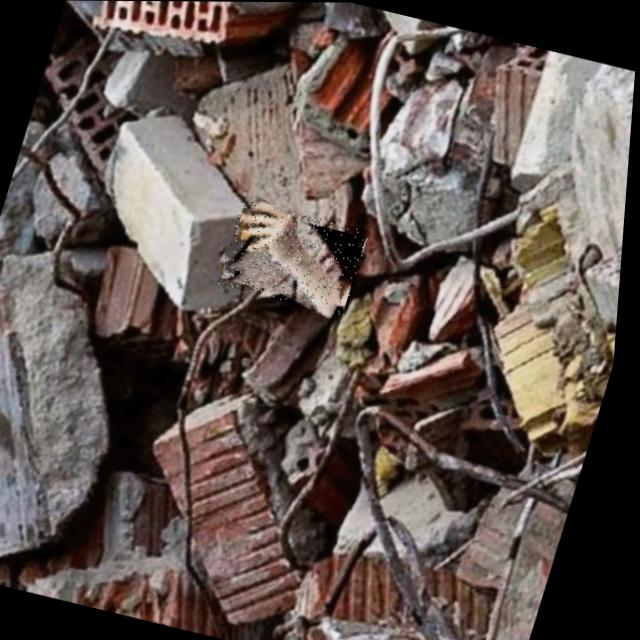Person in Rubble: (219, 198, 376, 314)
